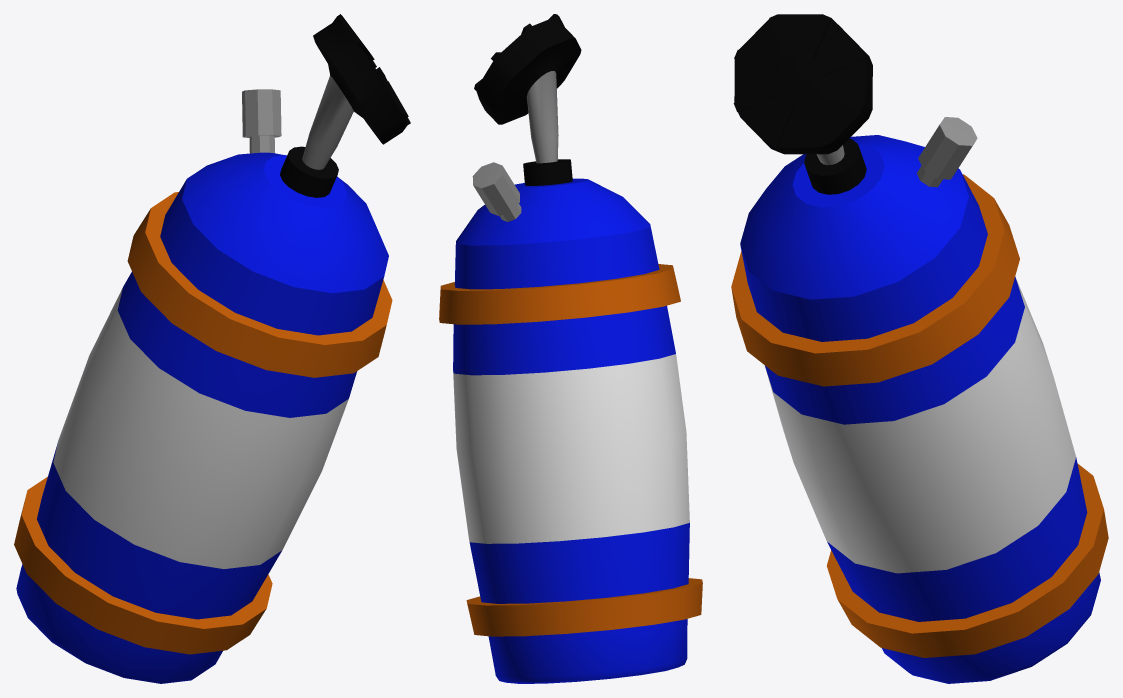
Rendered from nos.fbx.
3 views of the same model, side by side, from view 1: azimuth 30°, elevation 25°; view 2: azimuth 150°, elevation 25°; view 3: azimuth 270°, elevation 25° (orthographic). The views are drawn at different scales.
Visible parts, largest first — view 1: Sphere; view 2: Sphere; view 3: Sphere.
Boxes of the visible parts, x1=… form: Sphere: x1=14, y1=14, x2=410, y2=683; Sphere: x1=439, y1=14, x2=702, y2=683; Sphere: x1=731, y1=14, x2=1108, y2=683.
Bounding box in the file's own units: 92.6 × 194 × 93.5.
